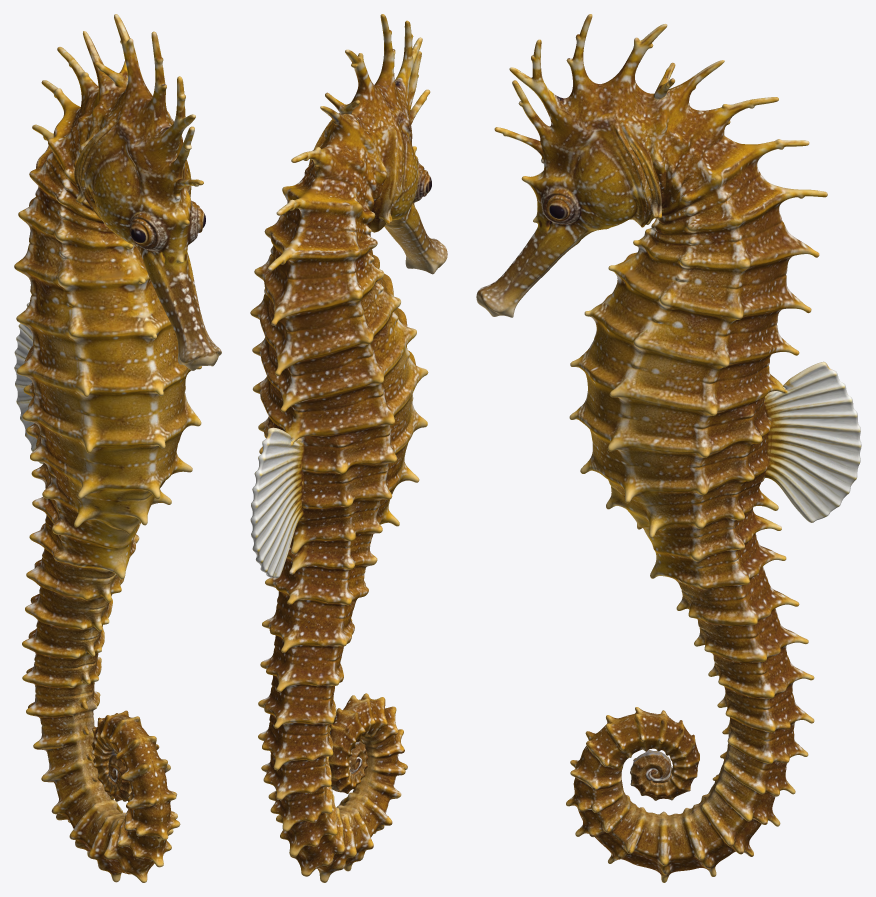
The model's file is reef_life_lined_seahorse_under25mb.glb.
3 renders of one model, left to right at view 1: azimuth 30°, elevation 25°; view 2: azimuth 150°, elevation 25°; view 3: azimuth 270°, elevation 25°, orthographic. The views are drawn at different scales.
Bounding box in the file's own units: 0.3383 × 1.9 × 0.7644.
1 material, 1 textured.
